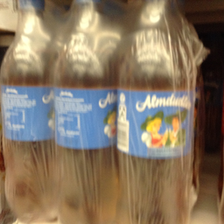soda: (116, 2, 194, 224), (51, 1, 117, 224), (1, 1, 55, 224)
